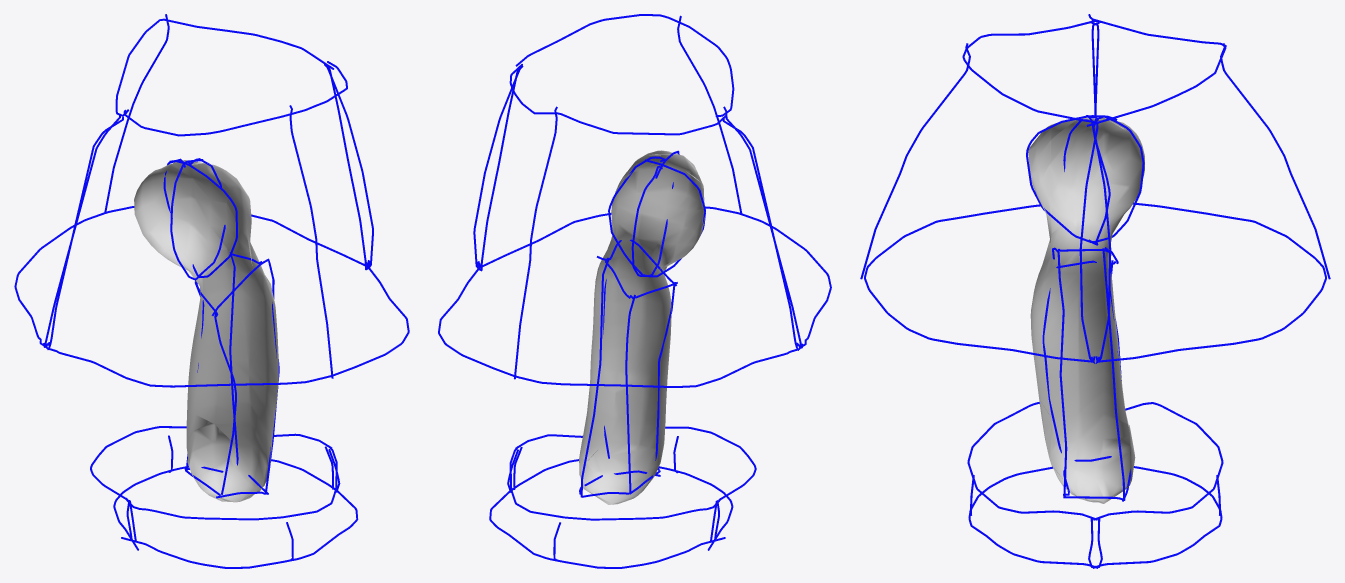
Rendered from cassie_p9_lamp_sketch_proxy.glb.
3 views of the same model, side by side, from view 1: azimuth 30°, elevation 25°; view 2: azimuth 150°, elevation 25°; view 3: azimuth 270°, elevation 25° (orthographic). The views are drawn at different scales.
Visible parts, largest first — view 1: cassie_p9_lamp_surface, cassie_p9_lamp; view 2: cassie_p9_lamp_surface, cassie_p9_lamp; view 3: cassie_p9_lamp_surface, cassie_p9_lamp.
Part boxes in pixels (<box>): cassie_p9_lamp_surface: <box>134,160,278,502</box>; cassie_p9_lamp: <box>14,14,409,568</box>; cassie_p9_lamp_surface: <box>579,150,705,504</box>; cassie_p9_lamp: <box>438,14,831,568</box>; cassie_p9_lamp_surface: <box>1028,117,1144,503</box>; cassie_p9_lamp: <box>860,14,1330,568</box>.
Bounding box in the file's own units: 0.744 × 1 × 0.8996.
